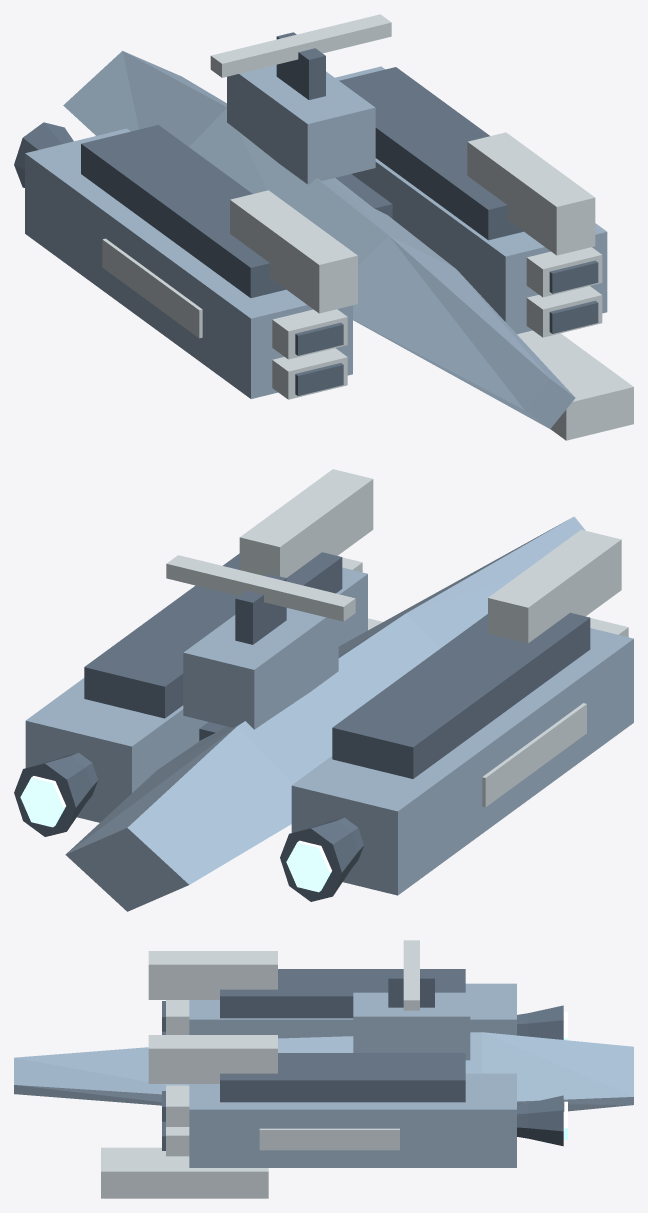
The picture shows the model from 3 angles, top to bottom: view 1: azimuth 30°, elevation 25°; view 2: azimuth 150°, elevation 25°; view 3: azimuth 270°, elevation 25°; orthographic projection. The views are drawn at different scales.
Size of the model in its own units: 9.39 by 6.35 by 19.16.
